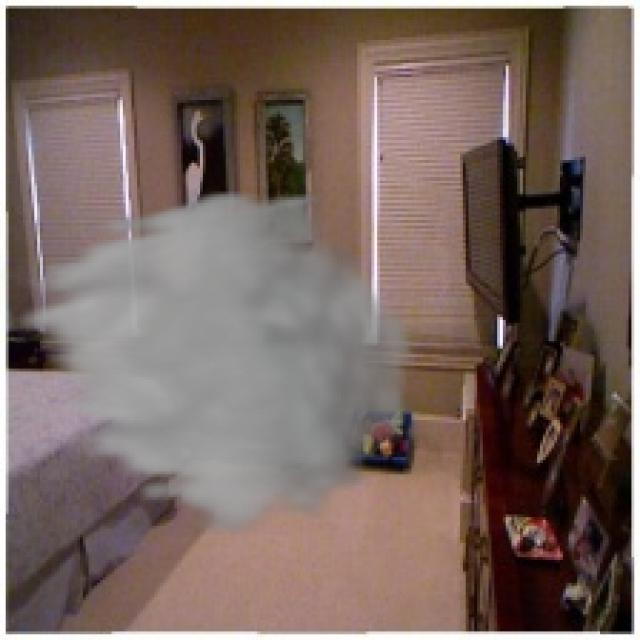smoke: (0, 186, 423, 540)
